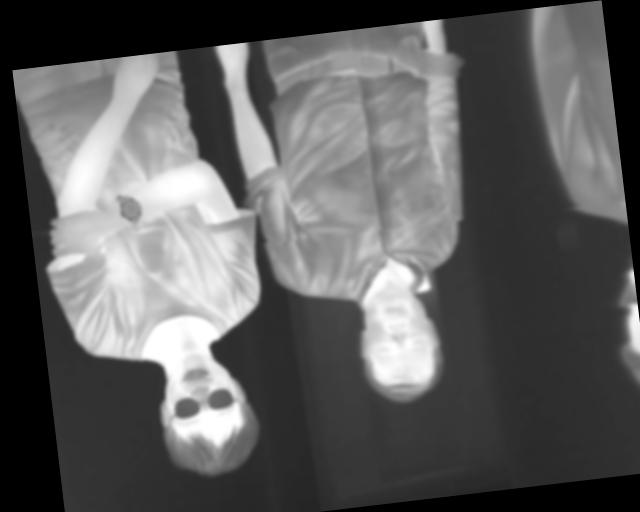face: (152, 344, 262, 483), (353, 281, 448, 409)
